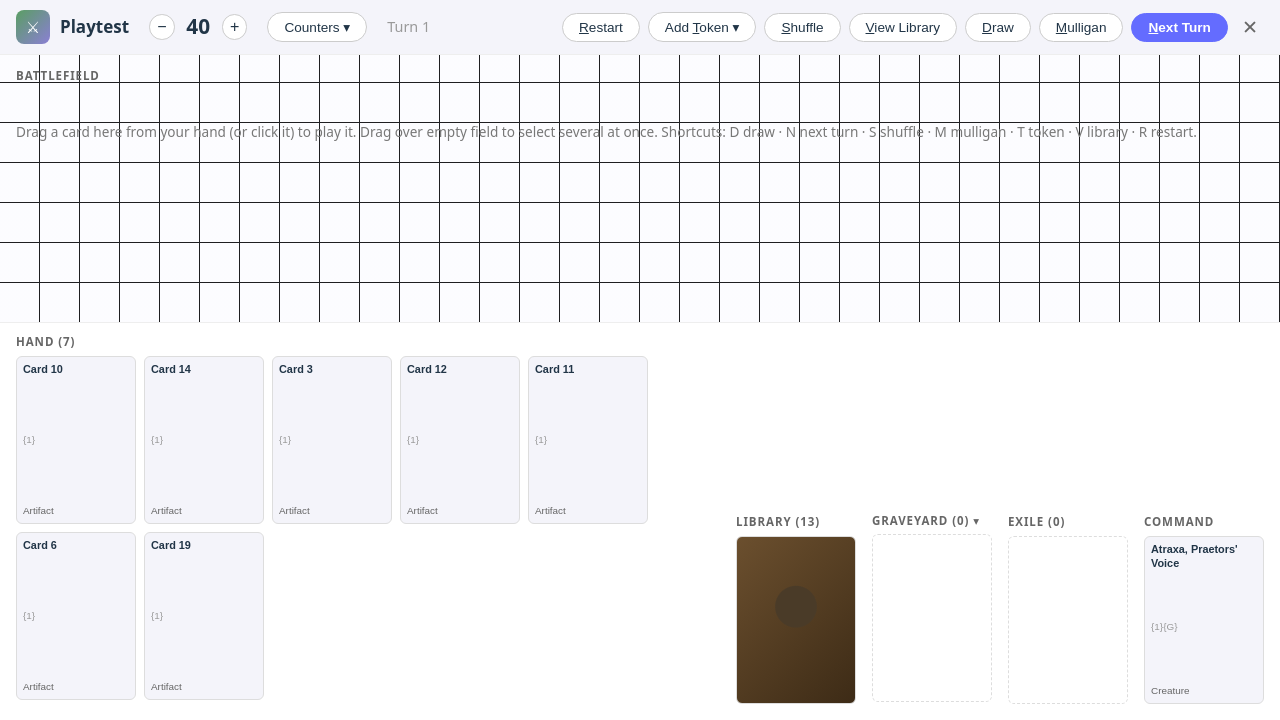
Test: Playtest › mulligans (first one is free) and restarts
This screenshot has width=1280, height=720.
Click the button "Mulligan" at x=1081, y=27, box [1039,12,1123,42]
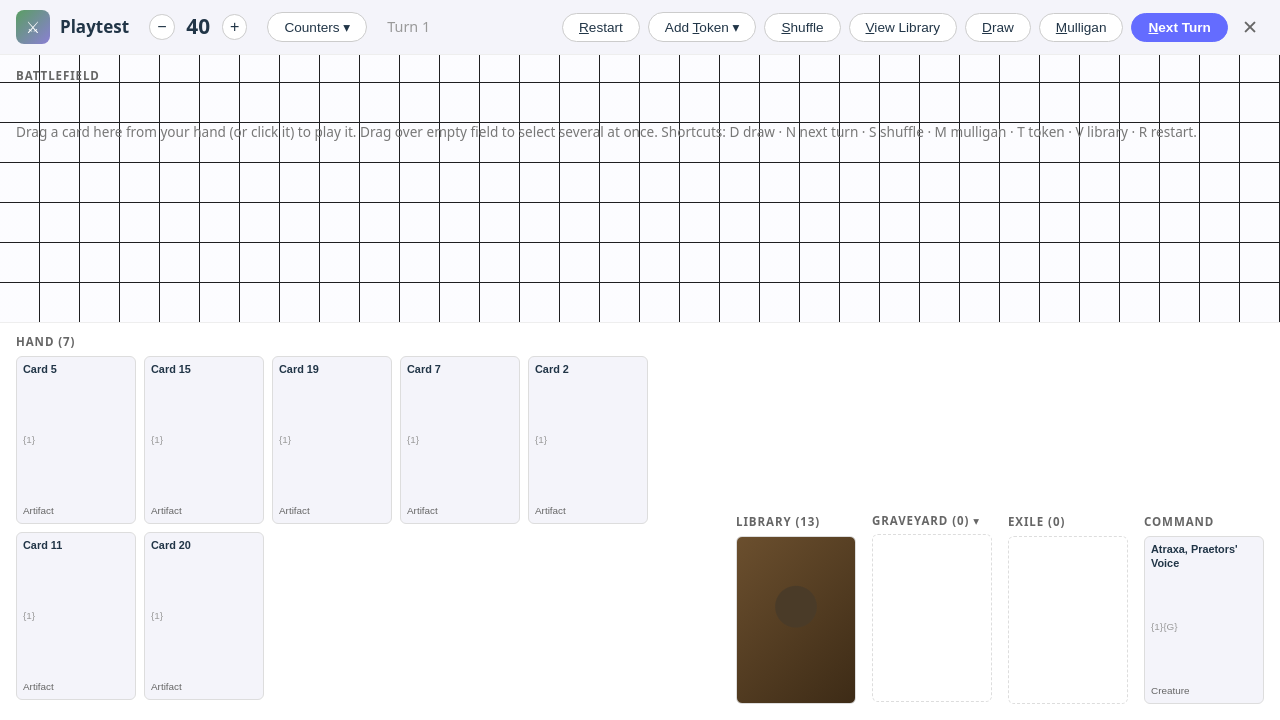
expect the text "Hand (7)" is shown: met, box [16,334,75,349]
Click the button "Mulligan" at x=1081, y=27, box [1039,12,1123,42]
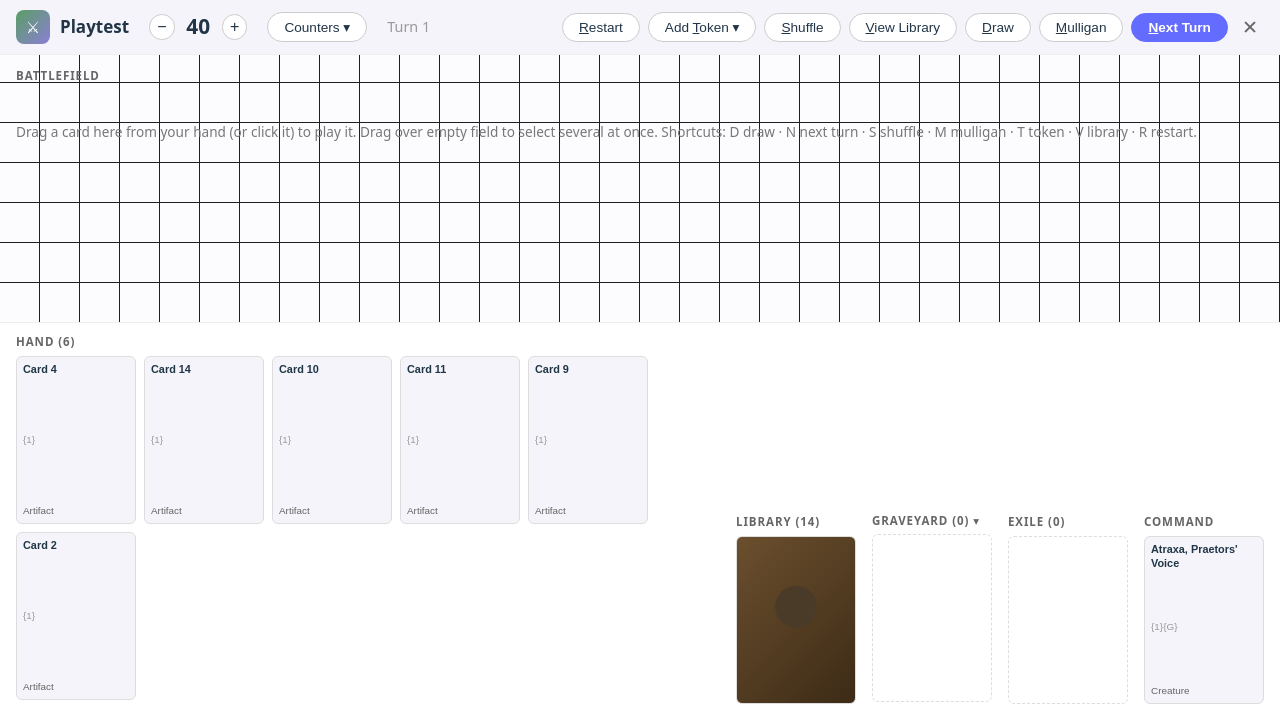
expect the text "Hand (6)" is shown: met, box [16,334,75,349]
Click the button "Restart" at x=601, y=27, box [562,12,640,42]
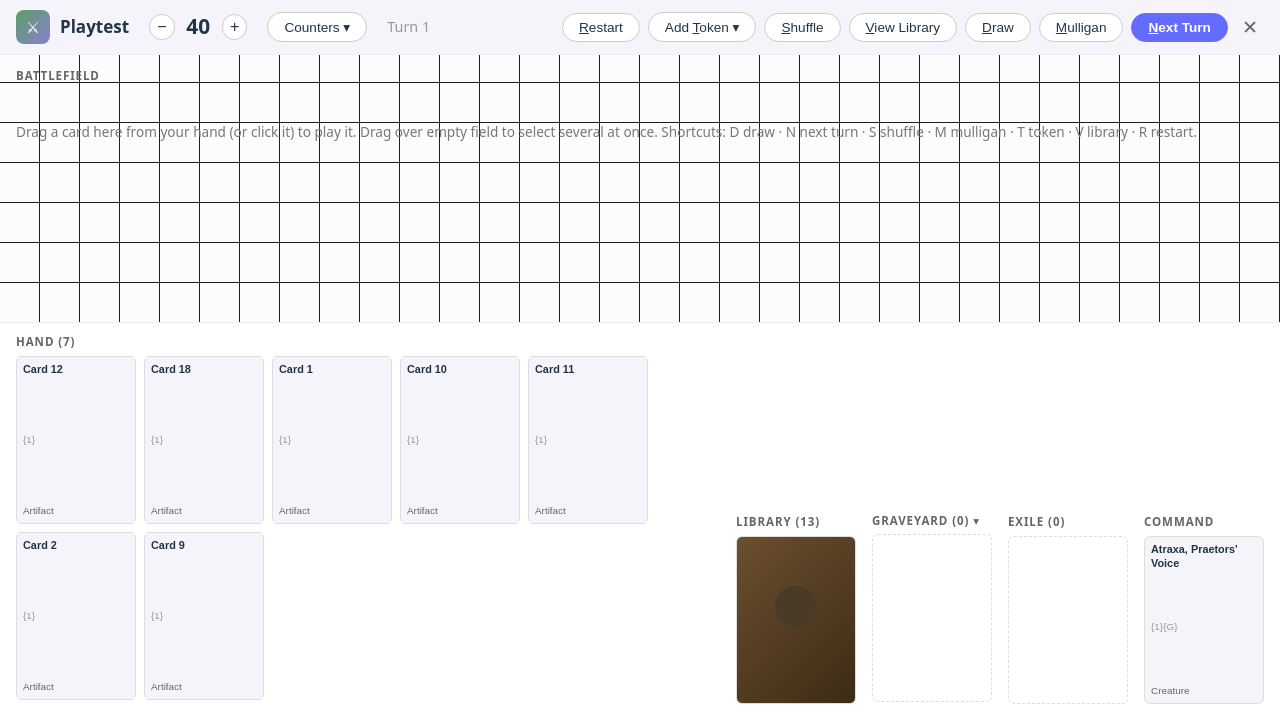
expect the text "Turn 1" is shown: met, box [387,16,430,38]
expect the text "Hand (7)" is shown: met, box [16,334,75,349]
